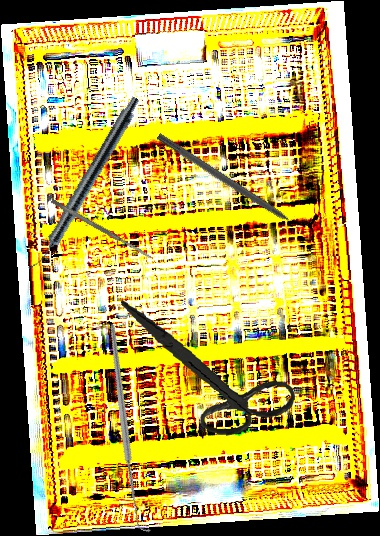Handpiece: (26, 92, 143, 277)
Hook Surgical: (39, 322, 220, 534), (155, 132, 307, 236)
Iris Scissors: (108, 299, 303, 443)
Spatula Surgical: (50, 197, 152, 261)
